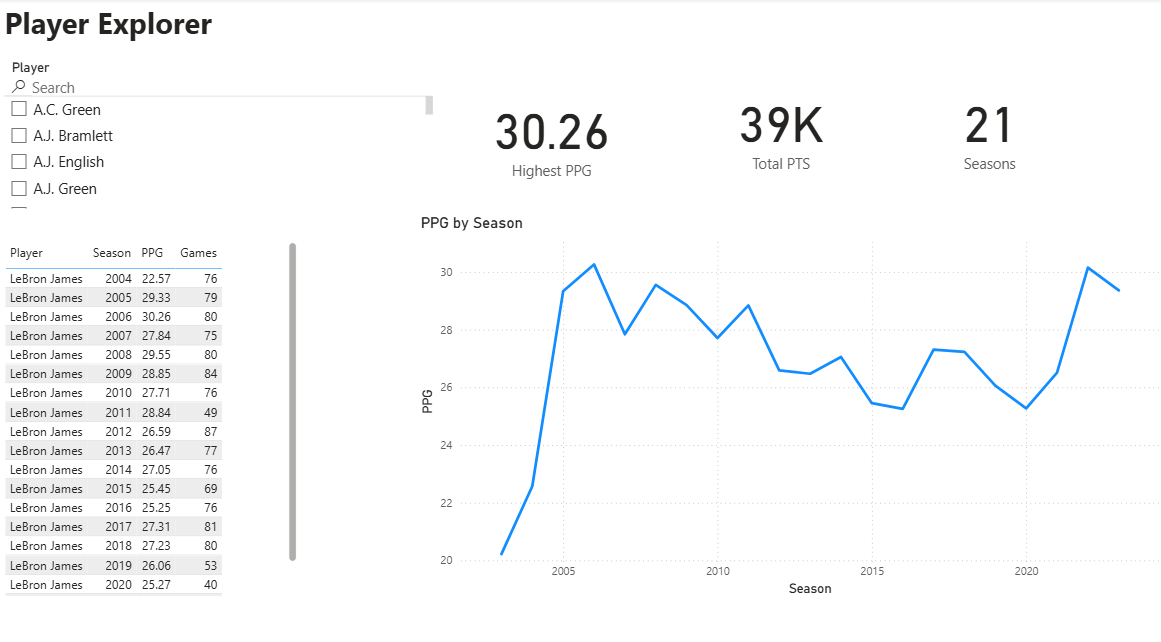

Layout of this report page (visuals, bound fields, positions):
{"tool":"powerbi","page":{"name":"Page 2","canvas":[1280,720],"ordinal":1},"visuals":[{"type":"tableEx","fields":{"Values":["player_season.Player","player_season.Season","Sum(player_season.PPG)","Sum(player_season.Games)"]},"box":[0,263.5,330.7,397.9],"z":0},{"type":"lineChart","fields":{"Category":["player_season.Season"],"Y":["Sum(player_season.PPG)"]},"box":[456.9,236,823.3,425.4],"z":2000},{"type":"card","fields":{"Values":["Max(player_season.PPG)"]},"box":[498.1,71.4,215.4,157.8],"z":3000},{"type":"slicer","fields":{"Values":["player_season.Player"]},"box":[0,63.1,480.3,172.9],"z":4000},{"type":"textbox","box":[0,0,629.8,56.3],"z":4001},{"type":"card","fields":{"Values":["Sum(player_season.TotalPTS)"]},"box":[741,57.6,233.3,171.5],"z":4002},{"type":"card","fields":{"Values":["CountNonNull(player_season.Season)"]},"box":[974.3,56.3,225,172.9],"z":4003}]}

Visuals, with their boxes in screenshot pixels (x1, y1, x2, y2), scaled from the page's 1280x720 canvas onto the 1161x642 screenshot:
tableEx - player_season.Player x player_season.Season: Rect(0, 235, 300, 590)
lineChart - player_season.Season x Sum(player_season.PPG): Rect(414, 210, 1160, 590)
card - Max(player_season.PPG): Rect(452, 64, 647, 204)
slicer - player_season.Player: Rect(0, 56, 436, 210)
textbox: Rect(0, 0, 571, 50)
card - Sum(player_season.TotalPTS): Rect(672, 51, 884, 204)
card - CountNonNull(player_season.Season): Rect(884, 50, 1088, 204)
